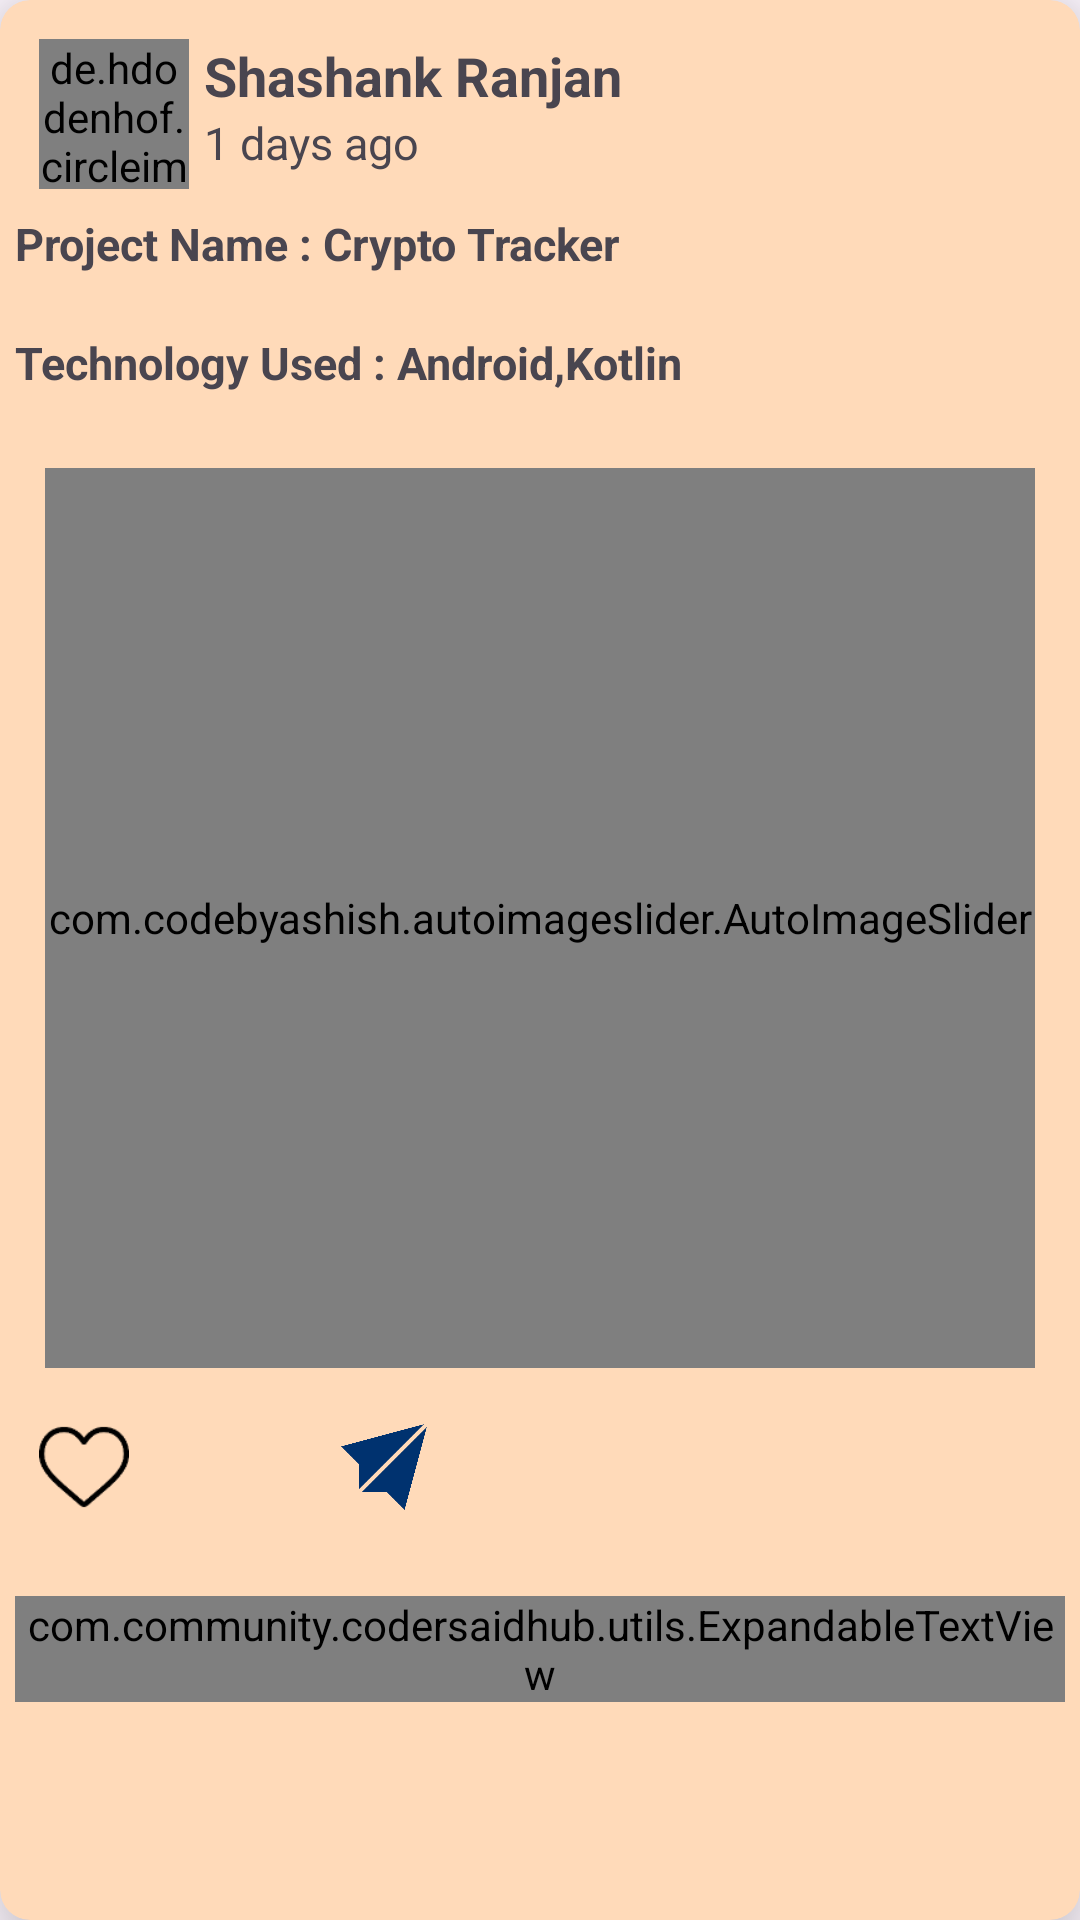

Screen size 1080 x 1920. Icon name, then its center in pixels as point (x, y):
heart: point (84, 1467)
send: point (384, 1467)
